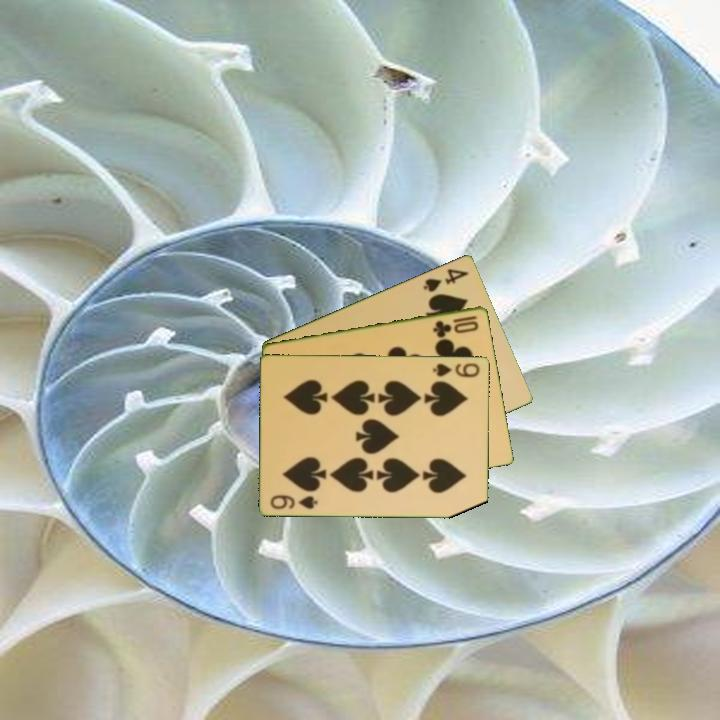10c: (430, 312, 482, 339)
4s: (420, 264, 471, 295)
9s: (267, 491, 321, 511), (430, 359, 483, 379)
